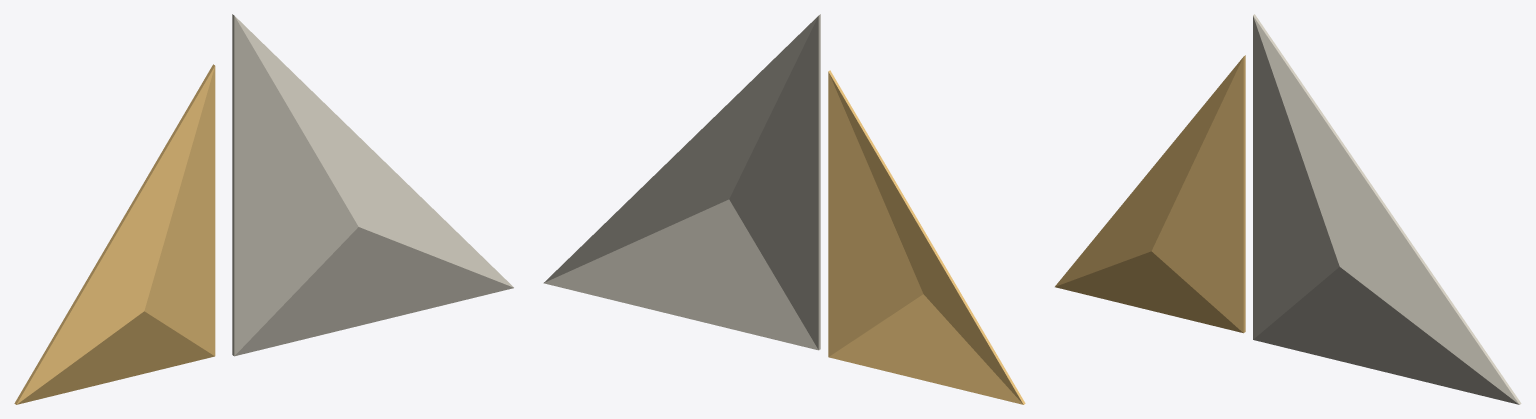
3 views of the same model, side by side, from view 1: azimuth 30°, elevation 25°; view 2: azimuth 150°, elevation 25°; view 3: azimuth 330°, elevation 25° (orthographic). The views are drawn at different scales.
Parts seen in each view (by area): view 1: 双片鼓折纸帆.001; view 2: 双片鼓折纸帆.001; view 3: 双片鼓折纸帆.001.
Part boxes in pixels (bbox=[...]): 双片鼓折纸帆.001: bbox=[14, 14, 513, 404]; 双片鼓折纸帆.001: bbox=[543, 14, 1025, 404]; 双片鼓折纸帆.001: bbox=[1055, 14, 1521, 404].
Bounding box in the file's own units: 1.03 × 0.68 × 0.084.
